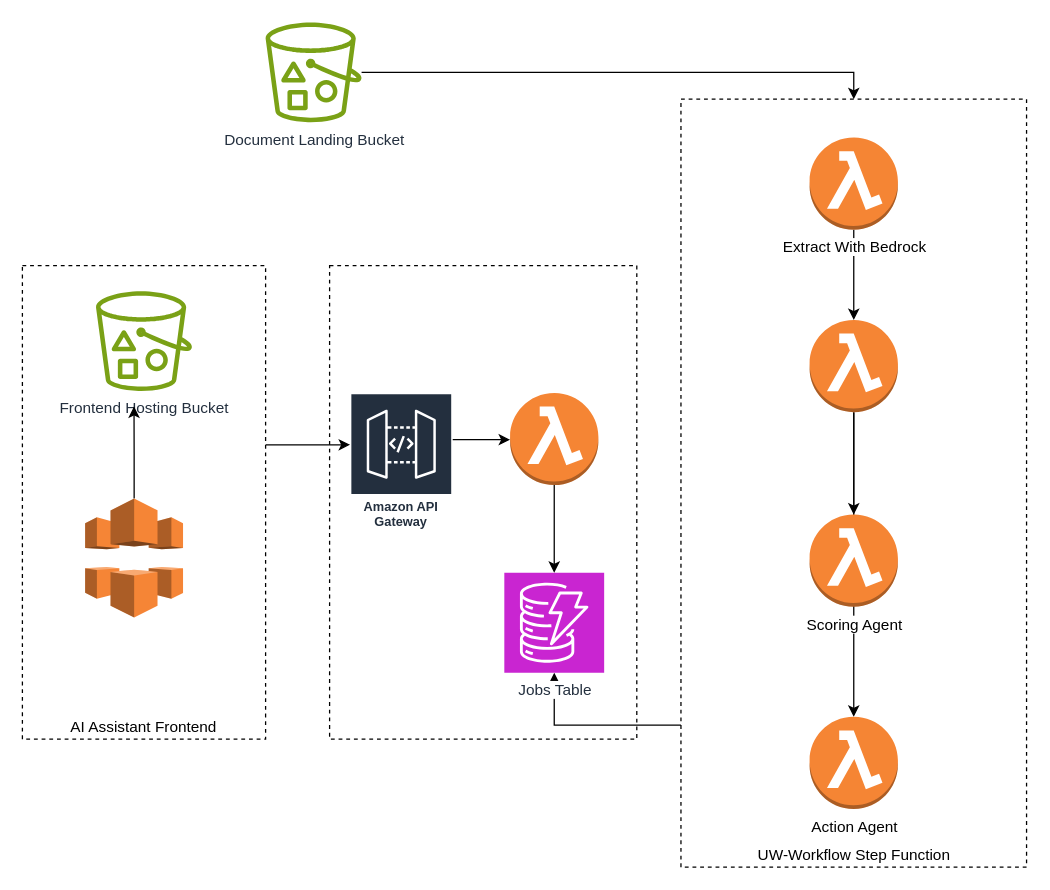
This 1050x890 diagram has some shape labels left out. Each missing label, with the box of its shape:
AI Assistant Backend: (328, 264, 637, 739)
API Lambda: (509, 392, 598, 485)
CloudFront: (84, 497, 183, 618)
Impairment Detection Agent: (808, 319, 898, 412)
